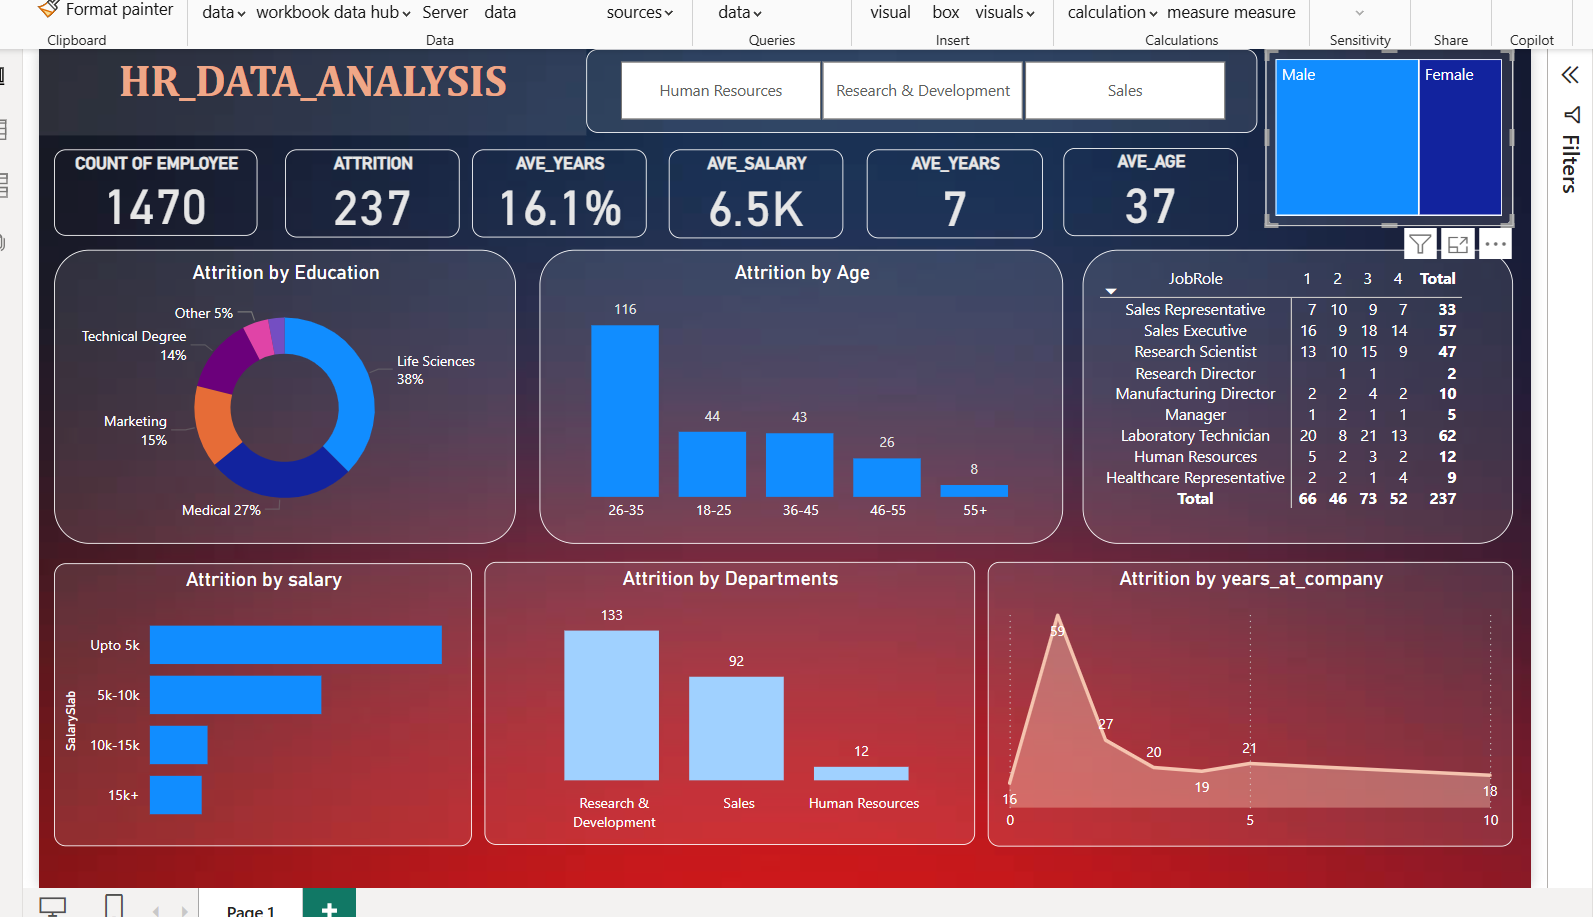

Layout of this report page (visuals, bound fields, positions):
{"tool":"powerbi","page":{"name":"Page 1","canvas":[1280,720],"ordinal":0},"visuals":[{"type":"card","title":"COUNT OF EMPLOYEE","fields":{"Values":["CountNonNull(HR_Analytics (1).EmpID)"]},"box":[13,86.2,174.7,74.4],"z":0},{"type":"card","title":"ATTRITION","fields":{"Values":["CountNonNull(HR_Analytics (1).ATTRITION_COUNT)"]},"box":[211.3,86.2,149.9,75.5],"z":1000},{"type":"card","title":"AVE_AGE","fields":{"Values":["Avg(HR_Analytics (1).Age)"]},"box":[879.2,85,149.9,75.5],"z":2000},{"type":"card","title":"AVE_YEARS","fields":{"Values":["Avg(HR_Analytics (1).YearsAtCompany)"]},"box":[710.5,86.2,151.1,76.7],"z":3000},{"type":"card","title":"AVE_SALARY","fields":{"Values":["Avg(HR_Analytics (1).MonthlyIncome)"]},"box":[540.5,86.2,149.9,76.7],"z":4000},{"type":"donutChart","title":"Attrition by Education","fields":{"Category":["HR_Analytics (1).EducationField"],"Y":["CountNonNull(HR_Analytics (1).ATTRITION_COUNT)"]},"box":[13,172.3,396.5,252.6],"z":5000},{"type":"card","title":"AVE_YEARS","fields":{"Values":["HR_Analytics (1).Count of ATTRITION_COUNT divided by EmployeeCount"]},"box":[371.8,86.2,149.9,75.5],"z":6000},{"type":"clusteredColumnChart","title":"Attrition by Age","fields":{"Y":["CountNonNull(HR_Analytics (1).ATTRITION_COUNT)"],"Category":["HR_Analytics (1).AgeGroup"]},"box":[429.6,172.3,449.6,252.6],"z":7000},{"type":"pivotTable","fields":{"Rows":["HR_Analytics (1).JobRole"],"Columns":["HR_Analytics (1).JobSatisfaction"],"Values":["CountNonNull(HR_Analytics (1).ATTRITION_COUNT)"]},"box":[895.8,172.3,369.4,252.6],"z":8000},{"type":"clusteredBarChart","title":"Attrition by salary ","fields":{"Y":["CountNonNull(HR_Analytics (1).Attrition)"],"Category":["HR_Analytics (1).SalarySlab"]},"box":[13,441.4,358.8,243.1],"z":9000},{"type":"areaChart","title":"Attrition by years_at_company","fields":{"Category":["HR_Analytics (1).YearsAtCompany"],"Y":["CountNonNull(HR_Analytics (1).ATTRITION_COUNT)"]},"box":[814.3,440.2,450.8,244.3],"z":10000},{"type":"treemap","fields":{"Group":["HR_Analytics (1).Gender"],"Values":["CountNonNull(HR_Analytics (1).ATTRITION_COUNT)"]},"box":[1052.7,0,212.4,152.2],"z":11000},{"type":"columnChart","title":"Attrition by Departments ","fields":{"Y":["CountNonNull(HR_Analytics (1).ATTRITION_COUNT)"],"Category":["HR_Analytics (1).Department"]},"box":[382.3,440.3,420.9,242.9],"z":12000},{"type":"slicer","fields":{"Values":["HR_Analytics (1).Department"]},"box":[469.7,0,575.9,72],"z":13000},{"type":"textbox","box":[0,0,469.7,74.4],"z":14000}]}

Visuals, with their boxes in screenshot pixels (x1, y1, x2, y2):
"COUNT OF EMPLOYEE" card: 40:144:247:232
"ATTRITION" card: 275:144:452:233
"AVE_AGE" card: 1066:142:1243:231
"AVE_YEARS" card: 866:144:1045:234
"AVE_SALARY" card: 665:144:842:234
"Attrition by Education" donutChart: 40:245:510:544
"AVE_YEARS" card: 465:144:642:233
"Attrition by Age" clusteredColumnChart: 533:245:1066:544
pivotTable - HR_Analytics (1).JobRole x HR_Analytics (1).JobSatisfaction: 1085:245:1523:544
"Attrition by salary " clusteredBarChart: 40:564:465:852
"Attrition by years_at_company" areaChart: 989:563:1523:852
treemap - HR_Analytics (1).Gender x CountNonNull(HR_Analytics (1).ATTRITION_COUNT): 1271:41:1523:222
"Attrition by Departments " columnChart: 477:563:976:850
slicer - HR_Analytics (1).Department: 581:41:1263:127
textbox: 25:41:581:130
